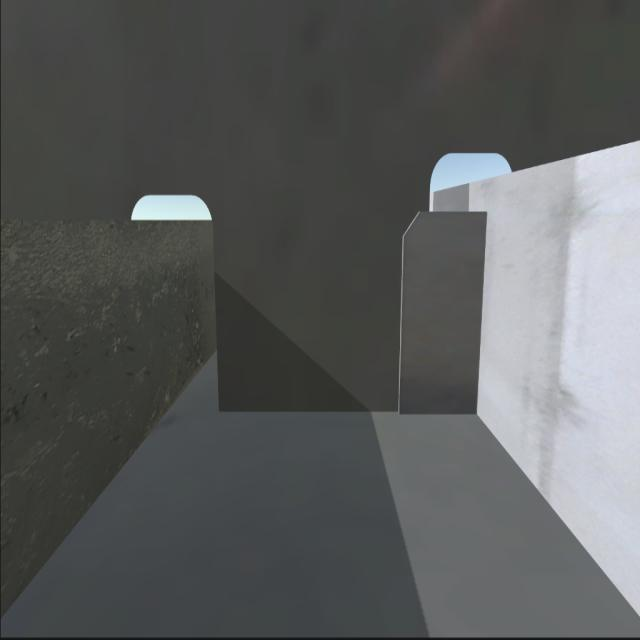fillet_yong_jeop_jang: (216, 398, 479, 428)
longi_yong_jeop_jang: (470, 209, 490, 412)
plate_CP03: (398, 206, 483, 413), (354, 473, 355, 474)
